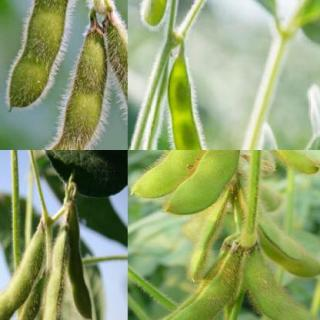soya: (29, 31, 106, 149), (8, 0, 69, 109), (160, 250, 243, 319), (169, 59, 226, 150), (244, 251, 319, 319), (165, 150, 243, 215), (0, 227, 45, 319), (130, 150, 216, 198), (185, 191, 230, 280), (261, 213, 319, 274), (66, 209, 93, 319), (41, 232, 68, 319), (264, 150, 320, 174), (2, 296, 40, 320)
